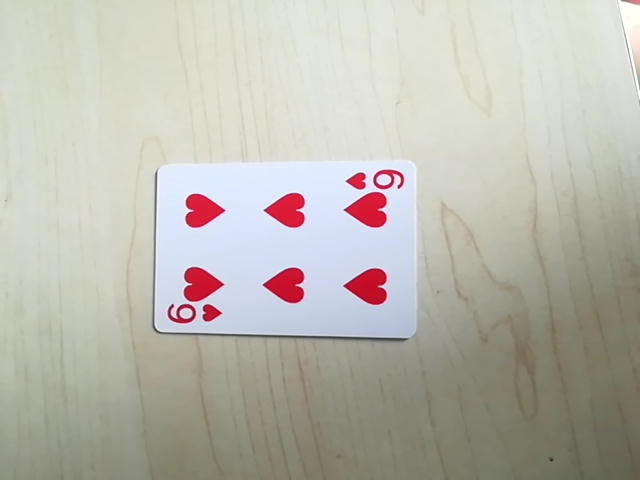hx 6: (344, 162, 405, 193), (162, 302, 224, 330)
